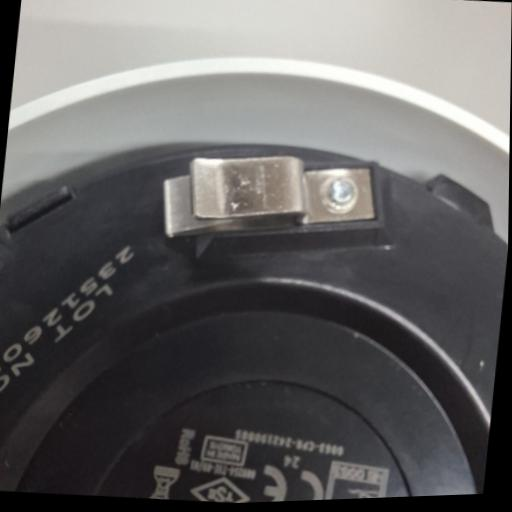yayli: (163, 156, 375, 238)
